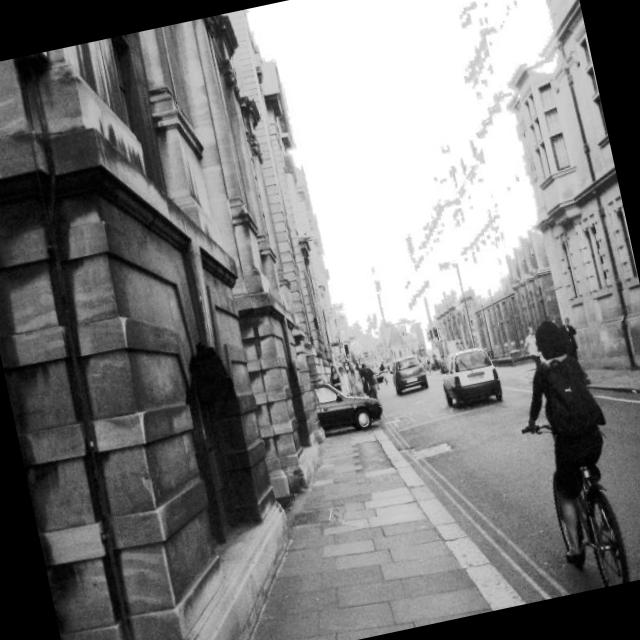Bicycle: (513, 433, 640, 599)
Car: (434, 316, 526, 420), (302, 356, 394, 449), (385, 340, 436, 413)
Person: (510, 292, 607, 449)
